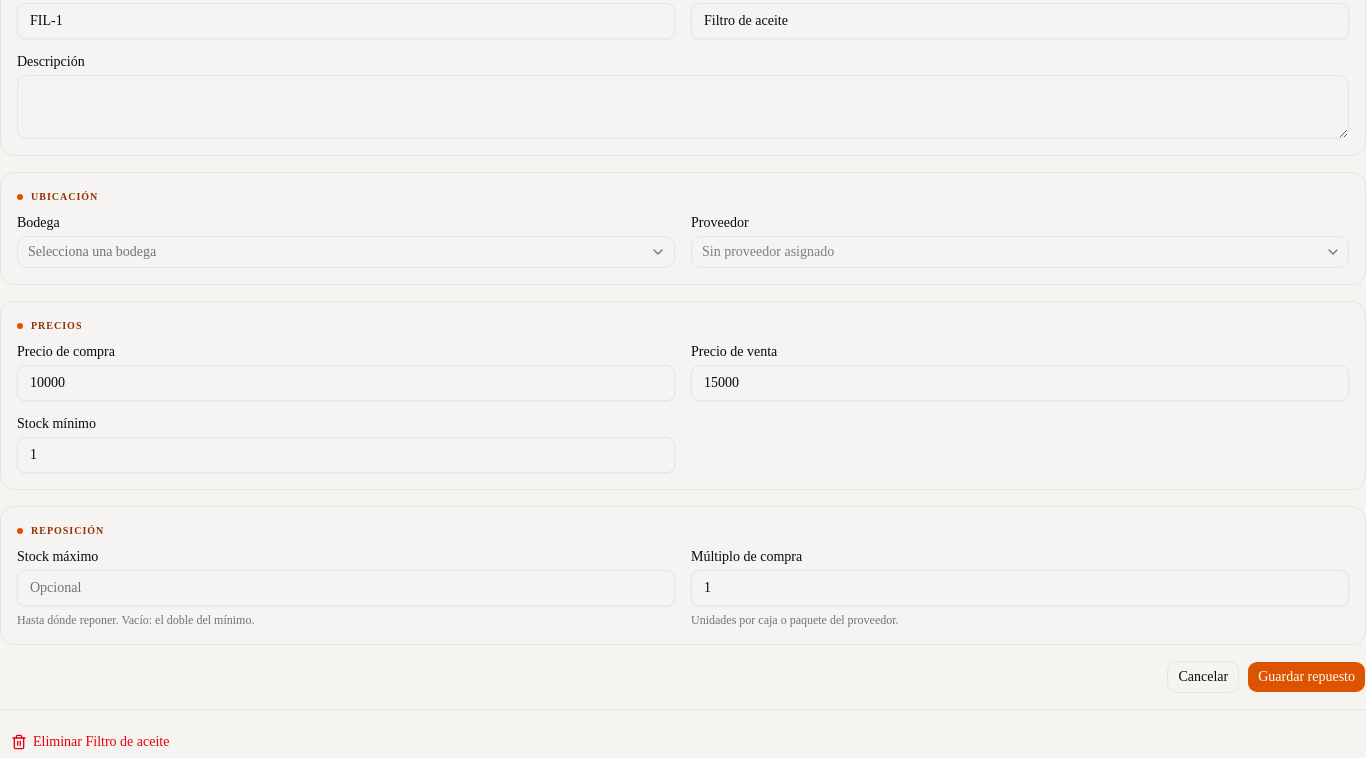
Test: EditarRepuestoForm — eliminar › shows the refusal reason
(page scrolled)
Click the button "Eliminar Filtro de aceite" at (90, 742), box [0, 726, 180, 757]
(page scrolled)
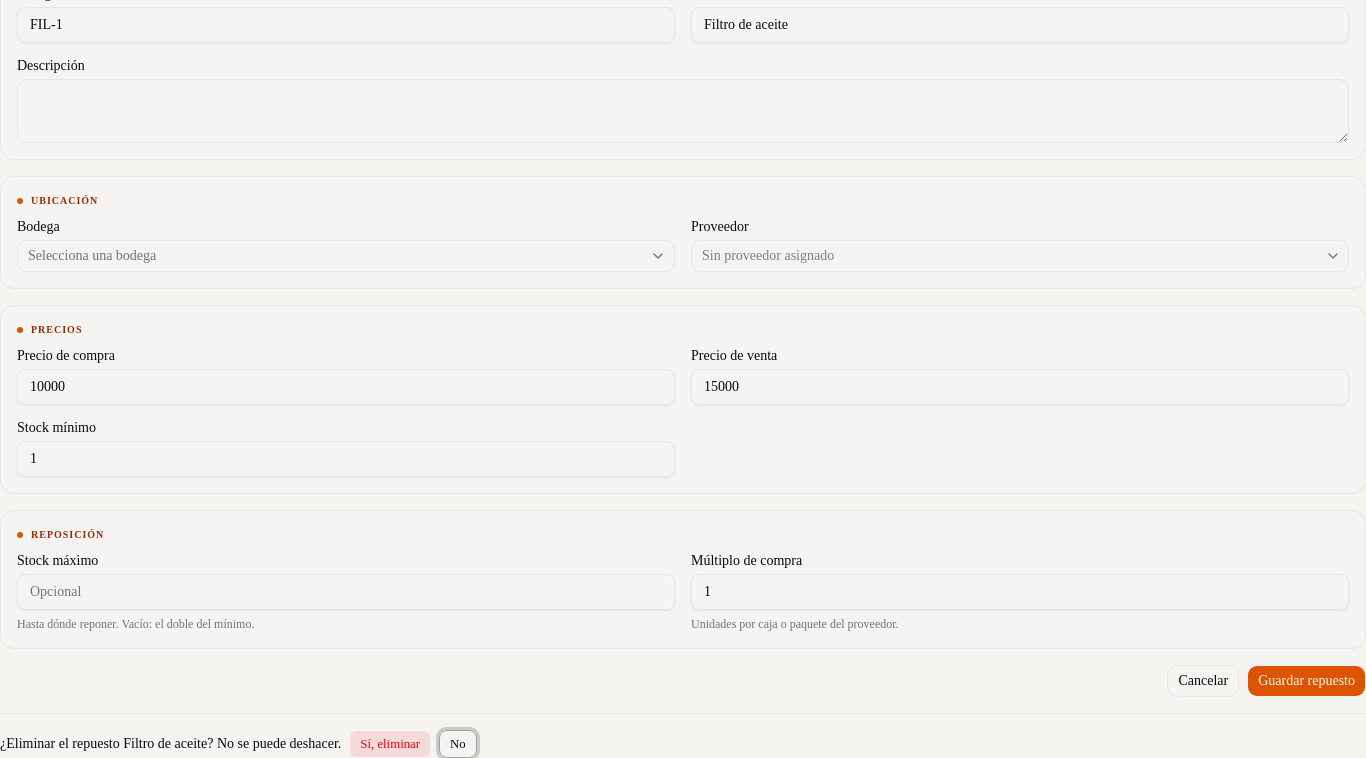
Click the button "Sí, eliminar" at (390, 744), box [349, 730, 431, 757]
(page scrolled)
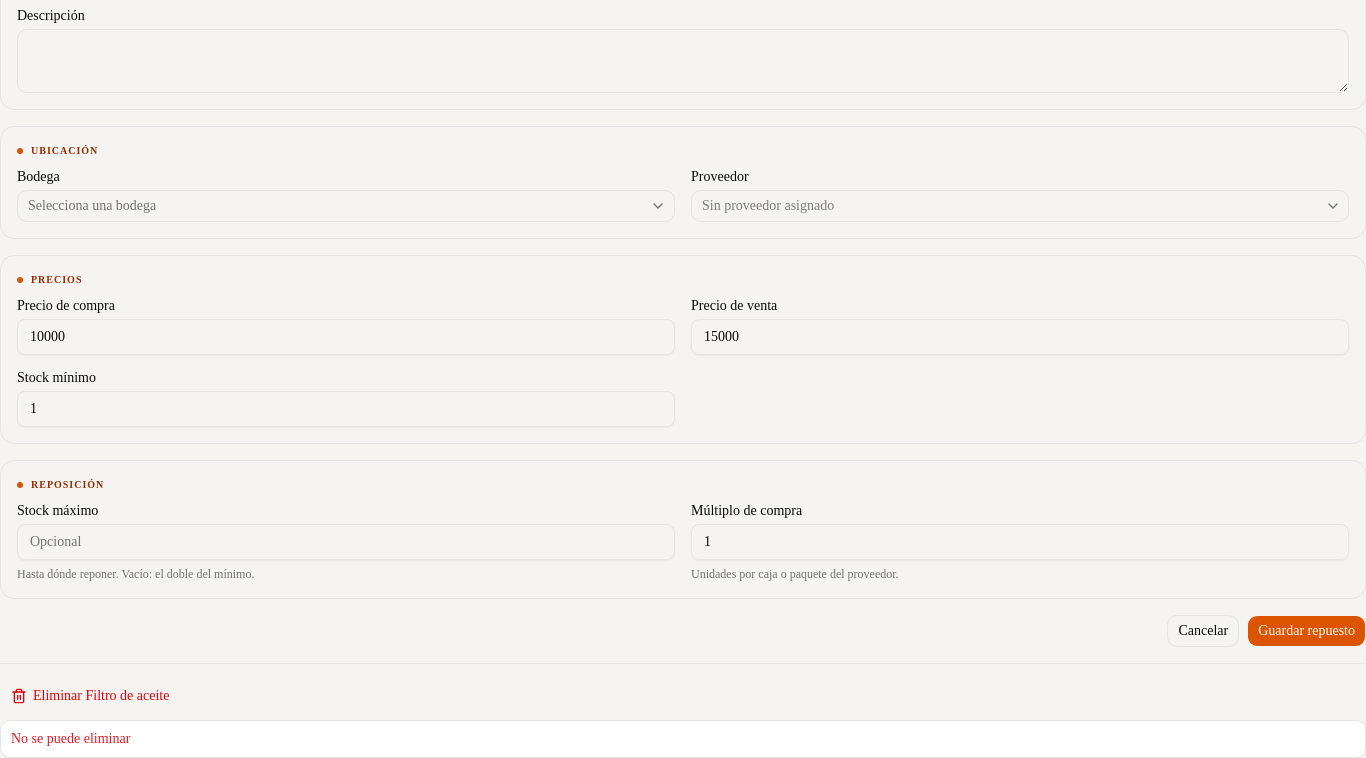
Now the message reads "No se puede eliminar", box [11, 731, 130, 746]
